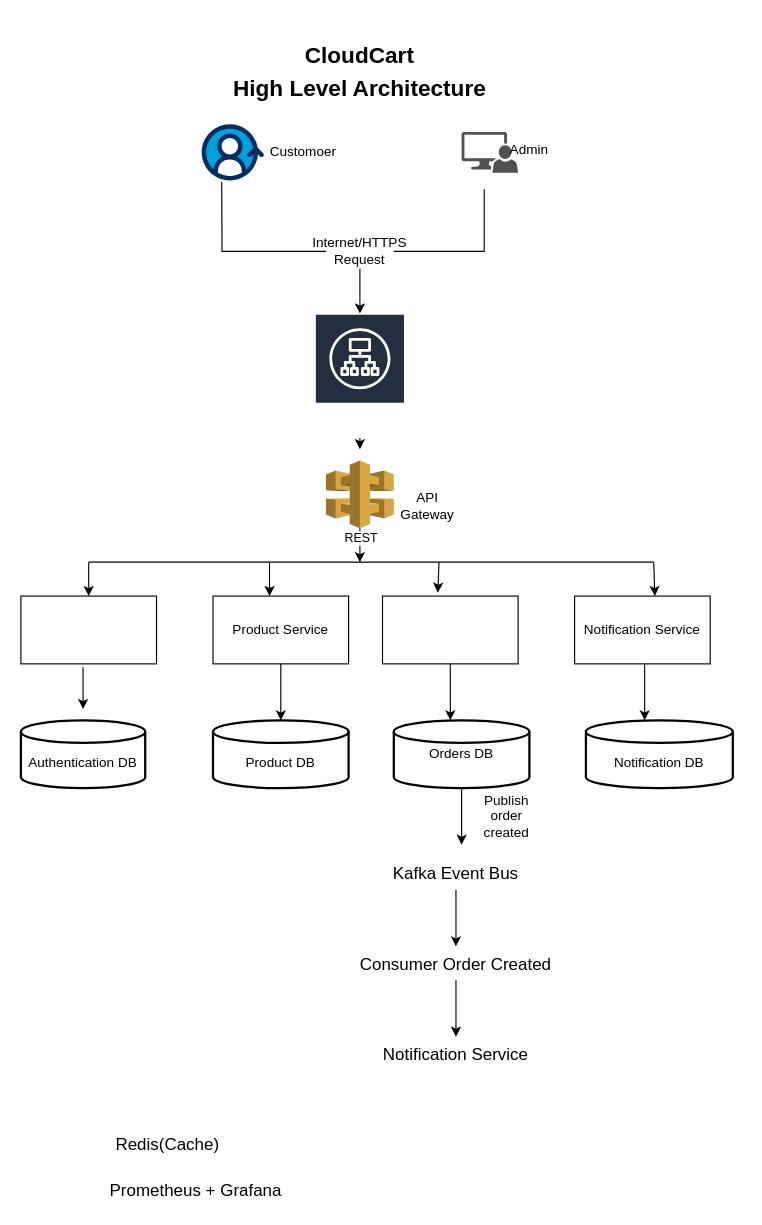
Image size: 762x1225. Some labels were removed from this diagram. The box of each missing label's shape, as (x1, y1, x2, y2) in pixels:
Application Load Balancer: (314, 312, 405, 438)
Authentication Service: (20, 595, 157, 664)
Order Service: (381, 595, 518, 664)
